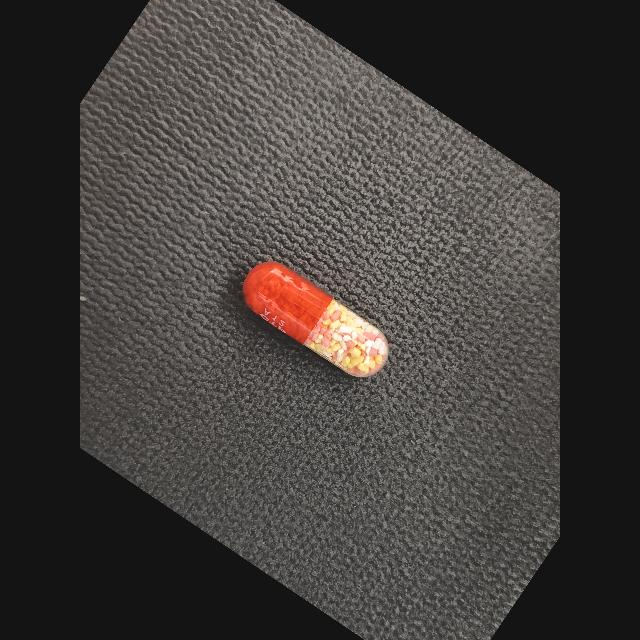Intact Capsule: (243, 262, 389, 377)
